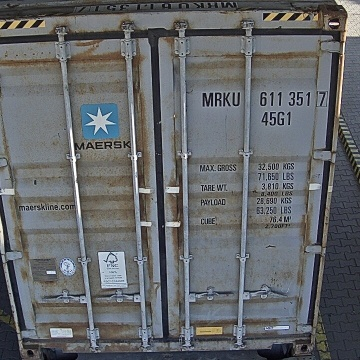serial_id: (202, 91, 327, 106)
